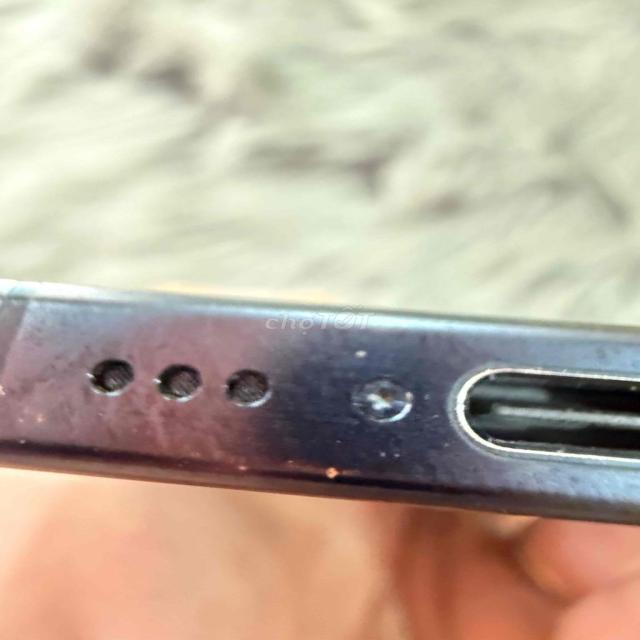gen_15: (0, 270, 640, 561)
